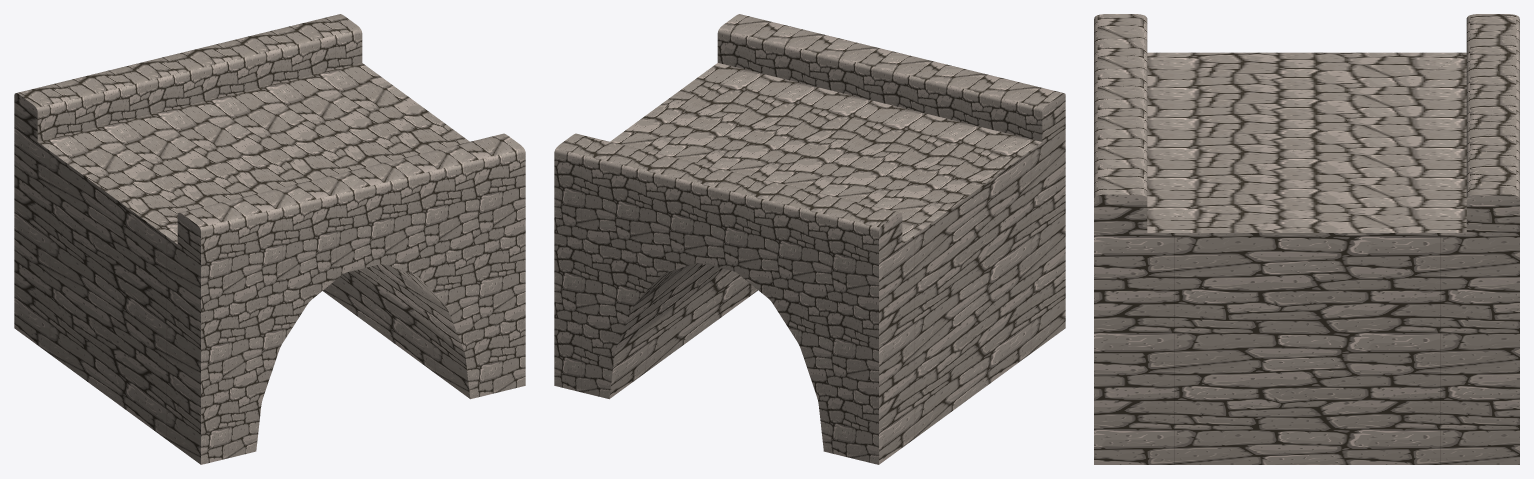
Rendered from Puente_Piedra_Sección_Texturav2.FBX.
3 views of the same model, side by side, from view 1: azimuth 30°, elevation 25°; view 2: azimuth 150°, elevation 25°; view 3: azimuth 270°, elevation 25° (orthographic). The views are drawn at different scales.
Parts seen in each view (by area): view 1: Puente_Piedra1; view 2: Puente_Piedra1; view 3: Puente_Piedra1.
Boxes of the visible parts, bbox=[...] form: Puente_Piedra1: bbox=[14, 14, 525, 464]; Puente_Piedra1: bbox=[554, 14, 1065, 464]; Puente_Piedra1: bbox=[1094, 14, 1519, 464].
Bounding box in the file's own units: 10.03 × 9.99 × 7.01.
